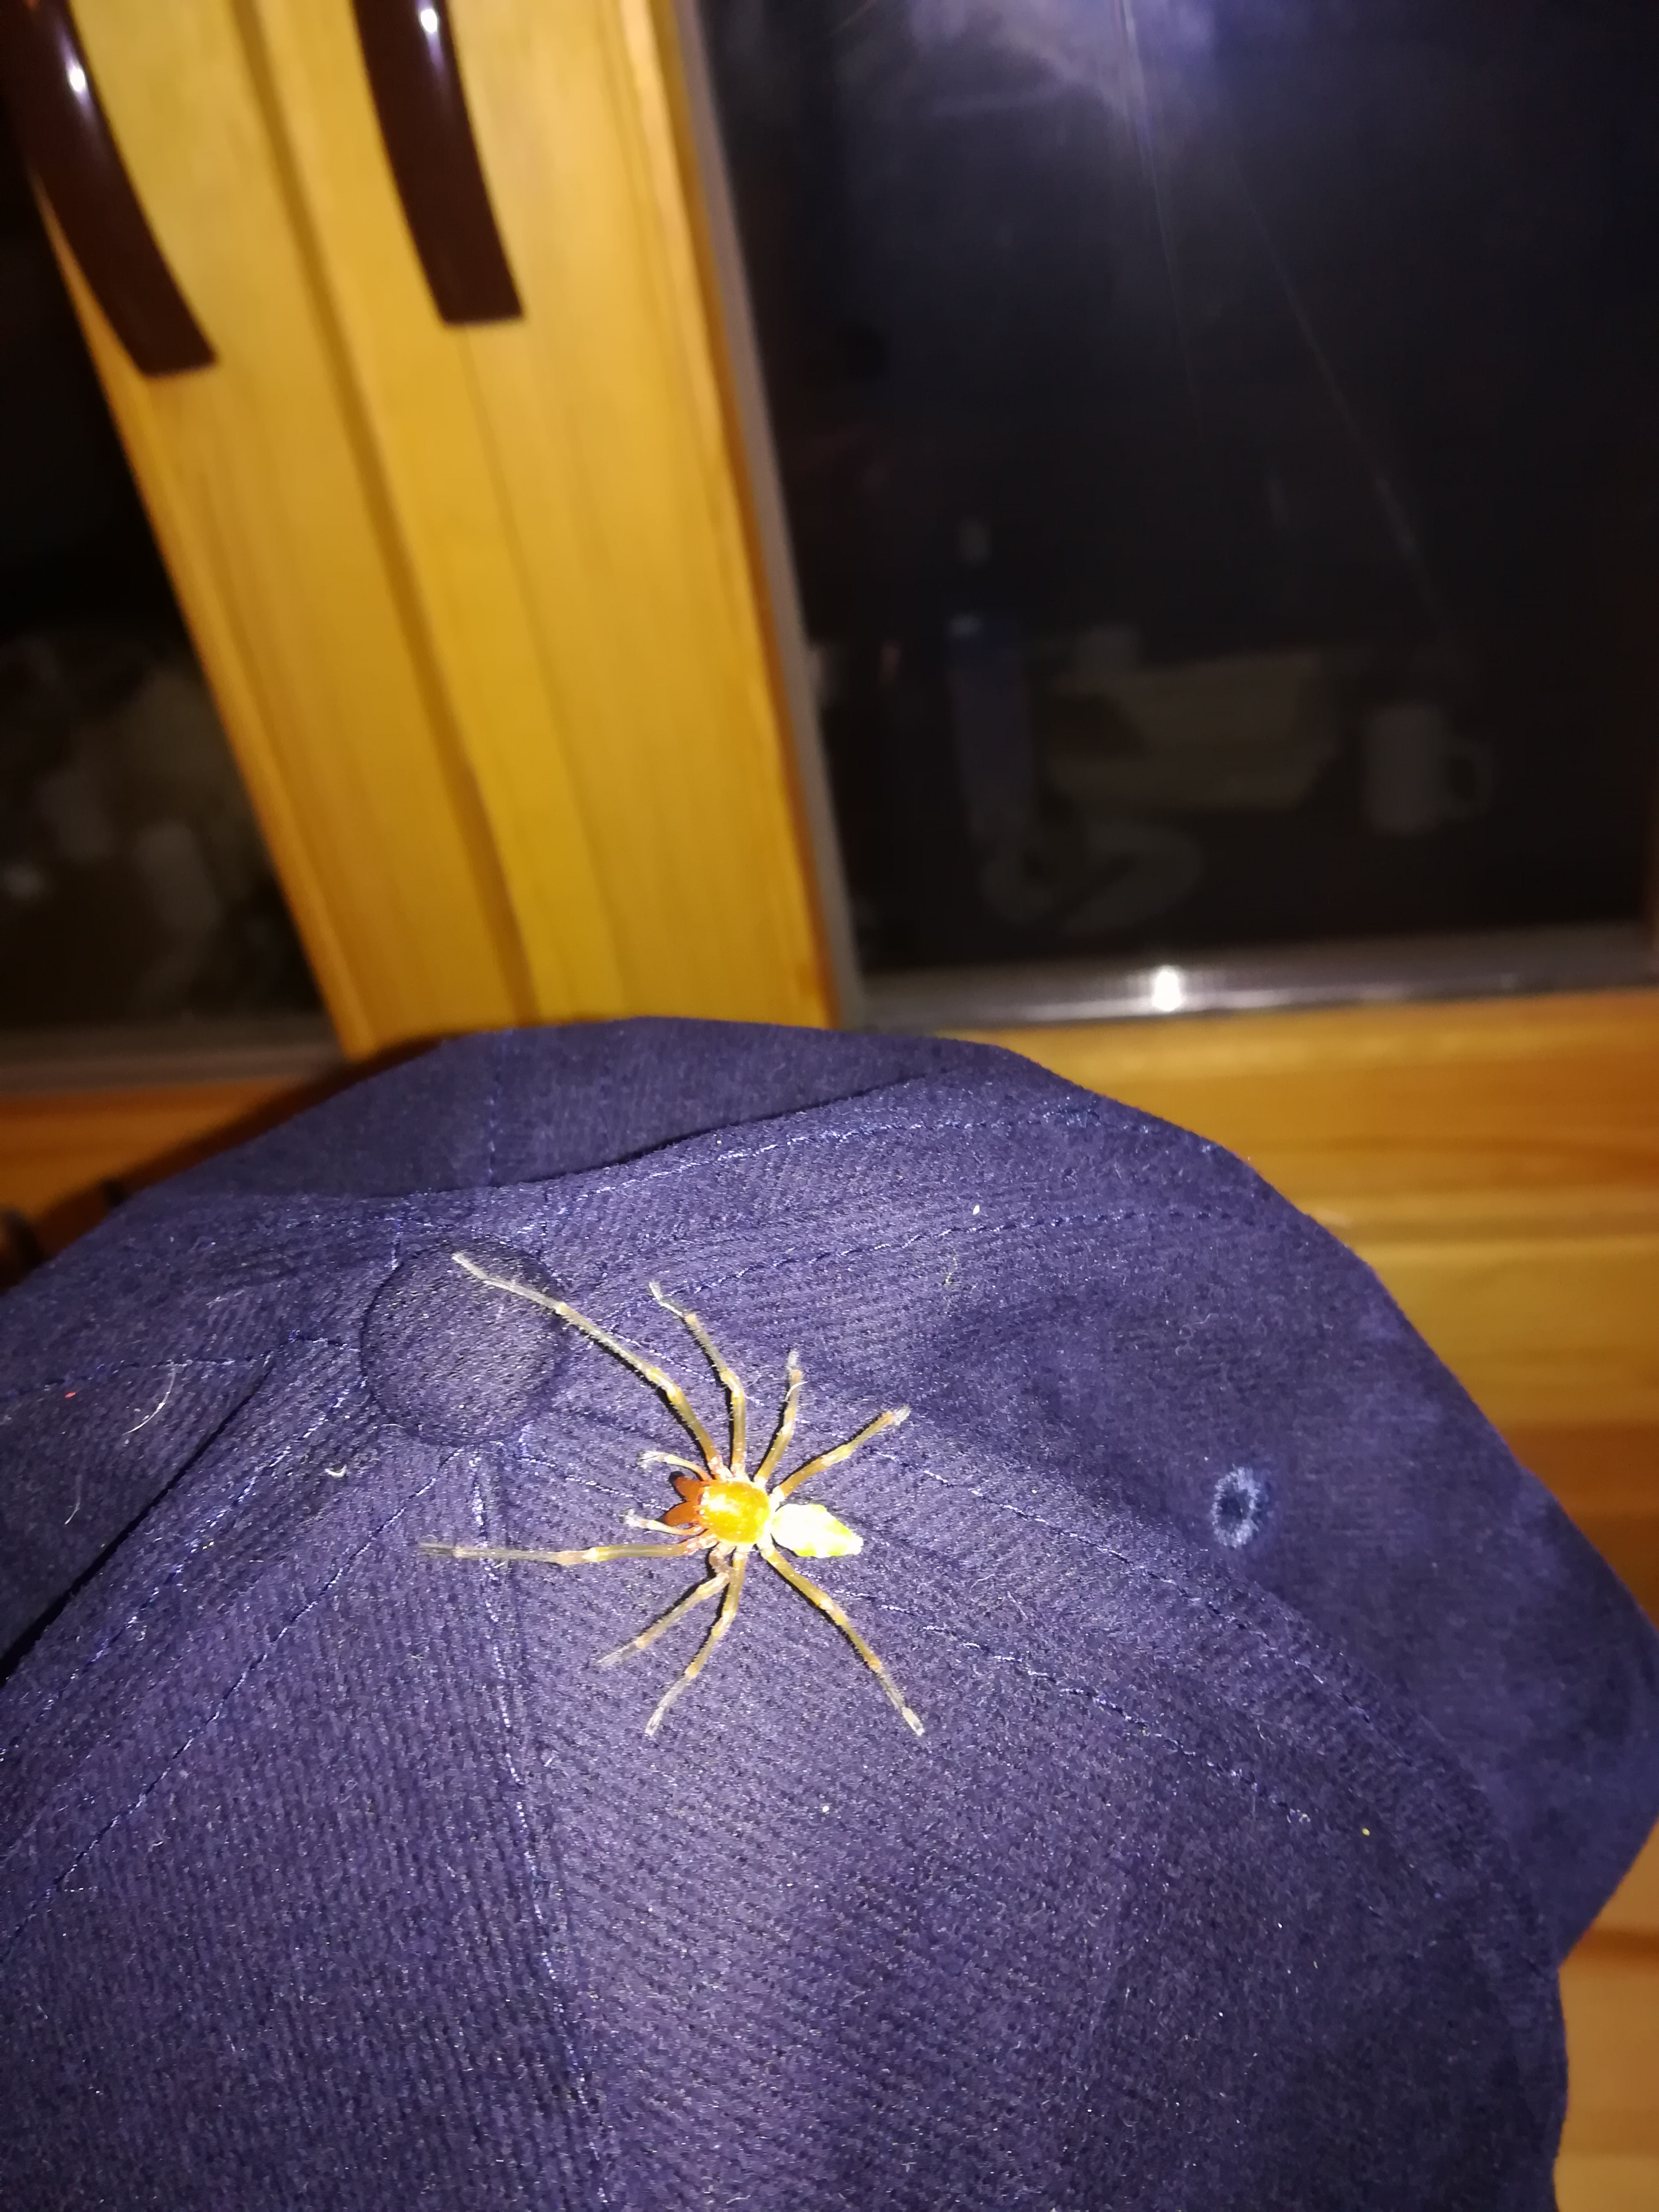spider: (401, 1217, 1004, 1791)
